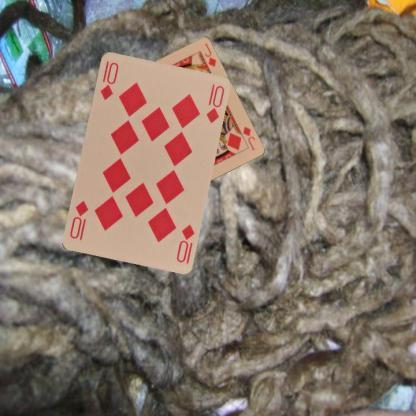10d: (173, 221, 196, 264), (98, 58, 120, 101)
Jd: (240, 124, 256, 152)
